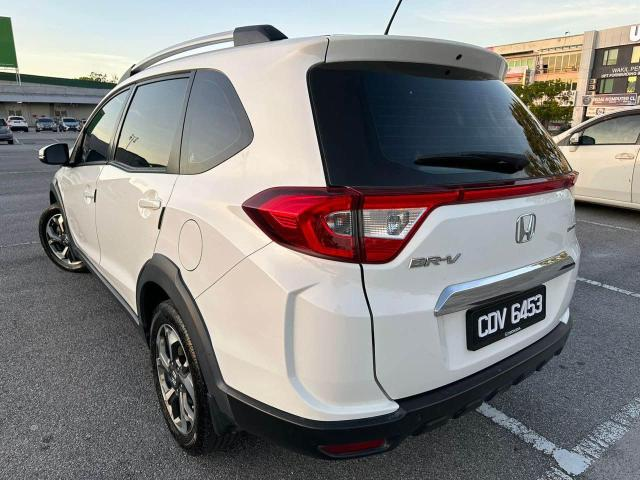License_Plate: (468, 283, 549, 349)
